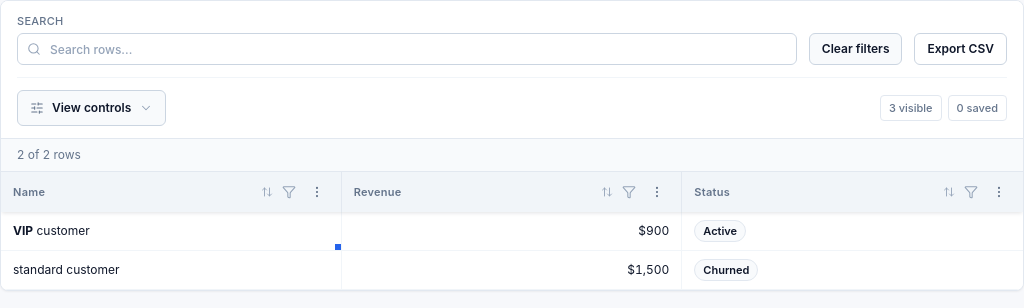
Test: DataGrid declarative formatting › searches text rendered by custom React formatters
This screenshot has width=1024, height=308.
Type "VIP customer" into the field labelled "Search" at {"x": 407, "y": 49}, box left=17, top=33, right=797, bottom=65
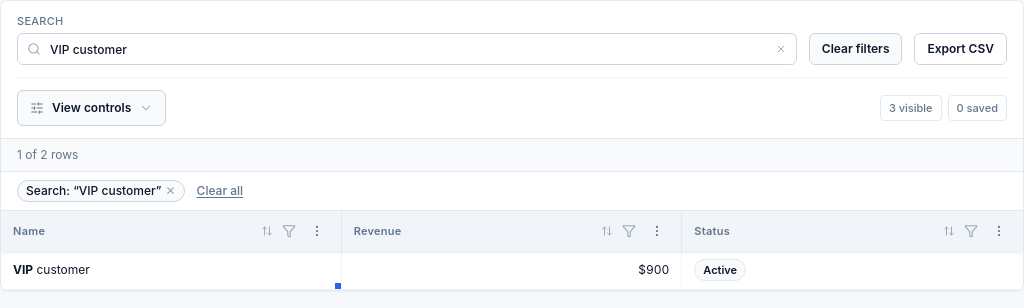
Expected: the text "VIP" is shown, left=13, top=262, right=33, bottom=277
Expected: the text "standard customer" is gone
